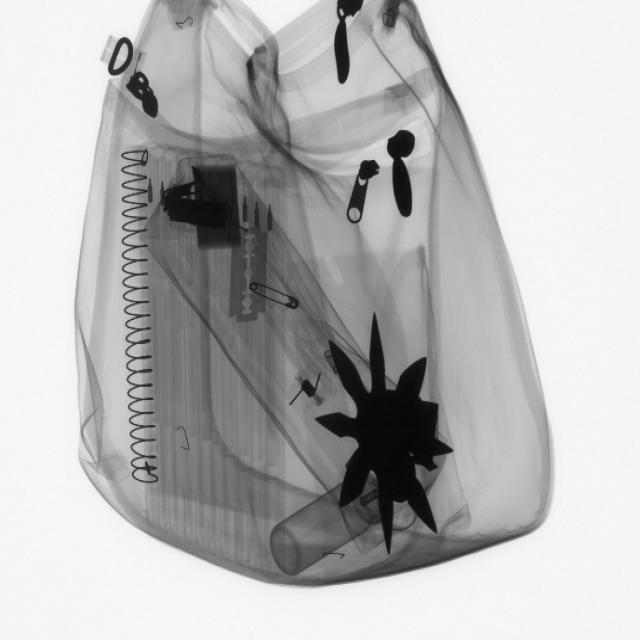BLADE: (222, 209, 276, 333)
SHURIKEN: (319, 315, 454, 558)
